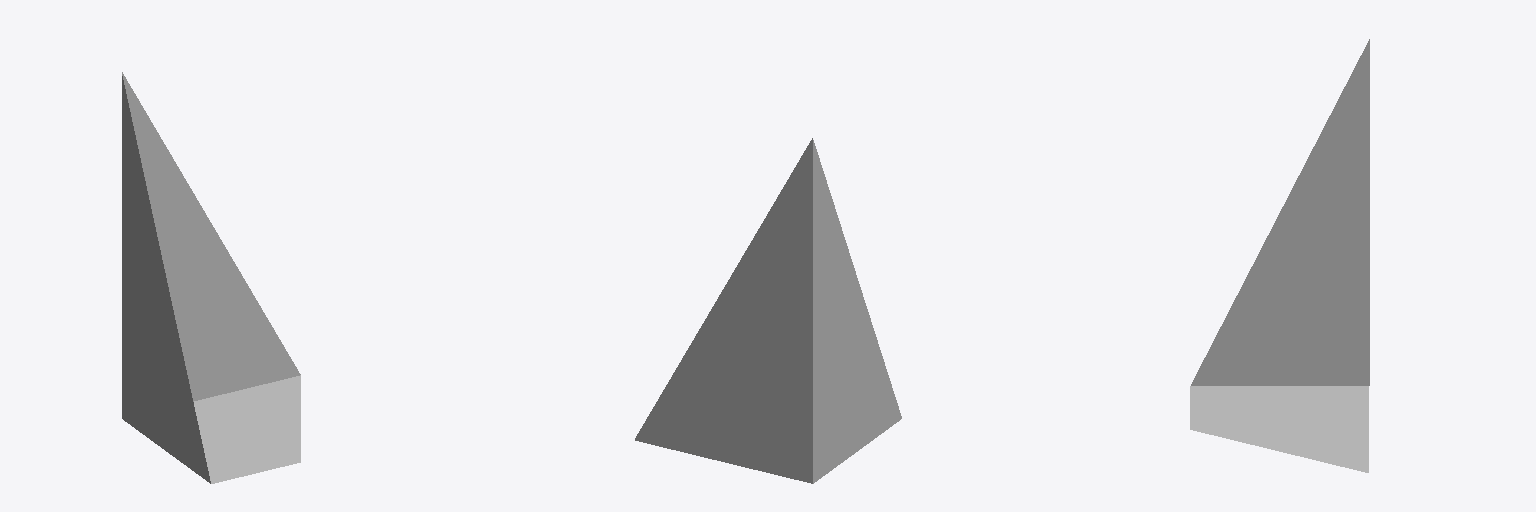
The model's file is slice.obj.
3 views of the same model, side by side, from view 1: azimuth 30°, elevation 25°; view 2: azimuth 150°, elevation 25°; view 3: azimuth 270°, elevation 25° (orthographic).
Visible parts, largest first — view 1: Spindle02; view 2: Spindle02; view 3: Spindle02.
Boxes of the visible parts, x1=… form: Spindle02: x1=122, y1=72, x2=300, y2=483; Spindle02: x1=635, y1=138, x2=901, y2=483; Spindle02: x1=1190, y1=39, x2=1369, y2=472.
Bounding box in the file's own units: 56.66 × 105 × 49.16.